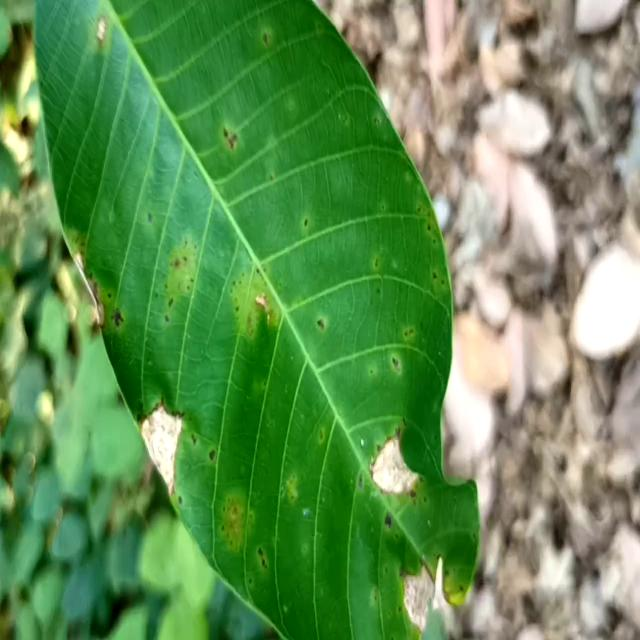Leaf-Blight: (139, 405, 183, 495), (404, 556, 449, 632), (370, 434, 418, 496), (74, 251, 105, 329)
